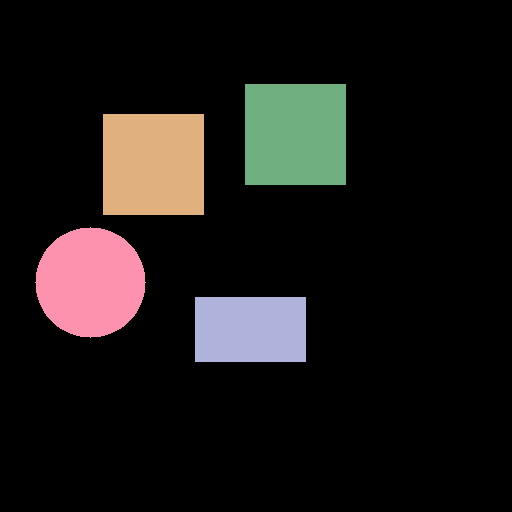circle: (35, 227, 145, 337)
rectangle: (195, 297, 305, 361)
square: (103, 114, 203, 214), (245, 84, 345, 184)
